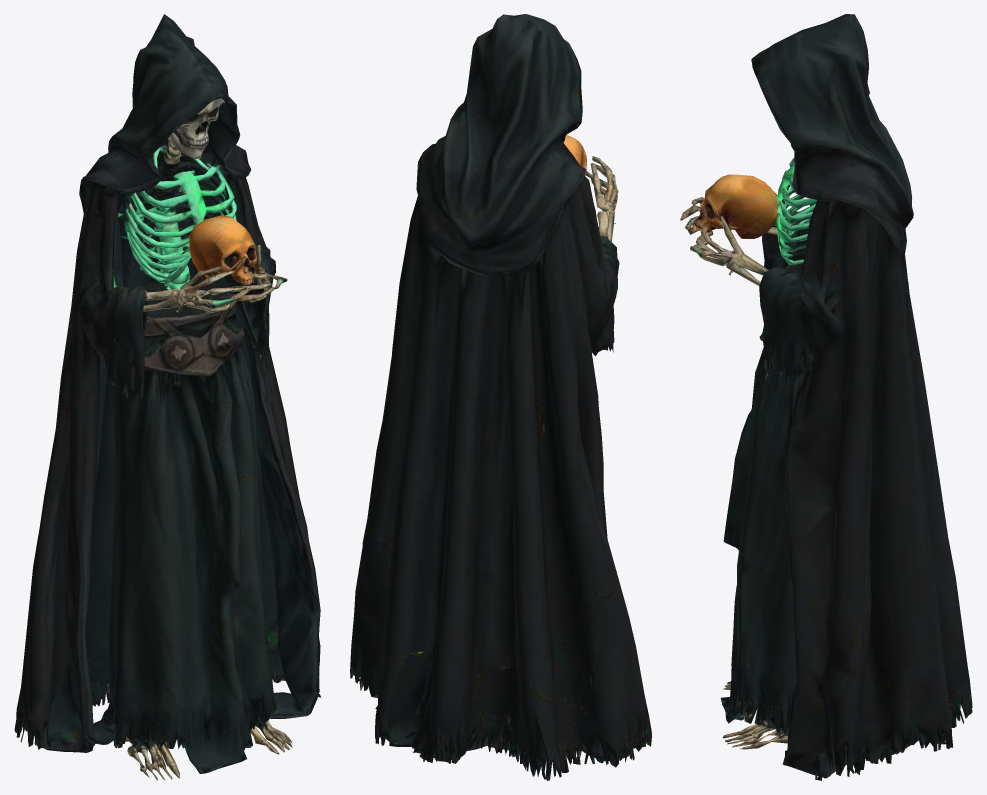
Rendered from skeleton_keeper.glb.
The picture shows the model from 3 angles, left to right: view 1: azimuth 30°, elevation 25°; view 2: azimuth 150°, elevation 25°; view 3: azimuth 270°, elevation 25°; orthographic projection.
Bounding box in the file's own units: 0.826 × 1.9 × 0.7158.
1 material, 1 textured.
